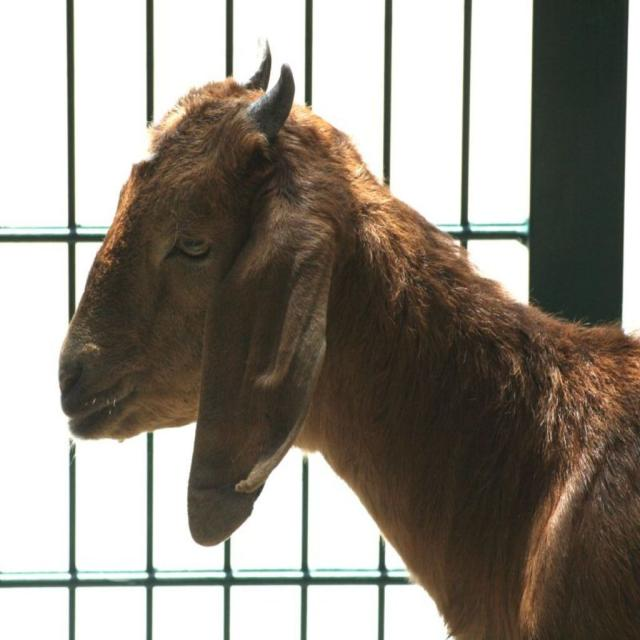Goat: (45, 39, 640, 640)
